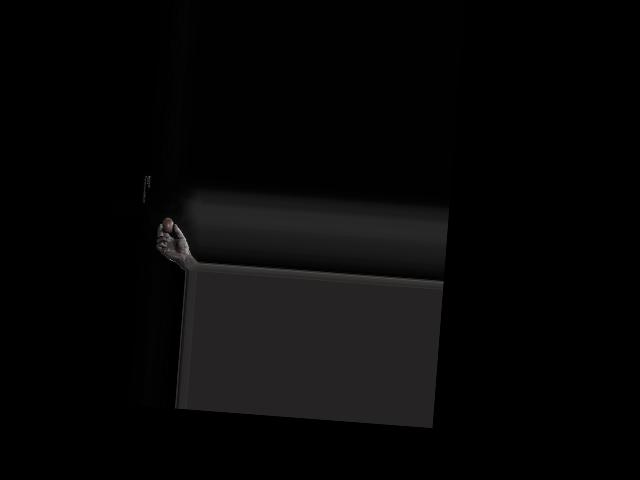egg: (161, 218, 174, 234)
